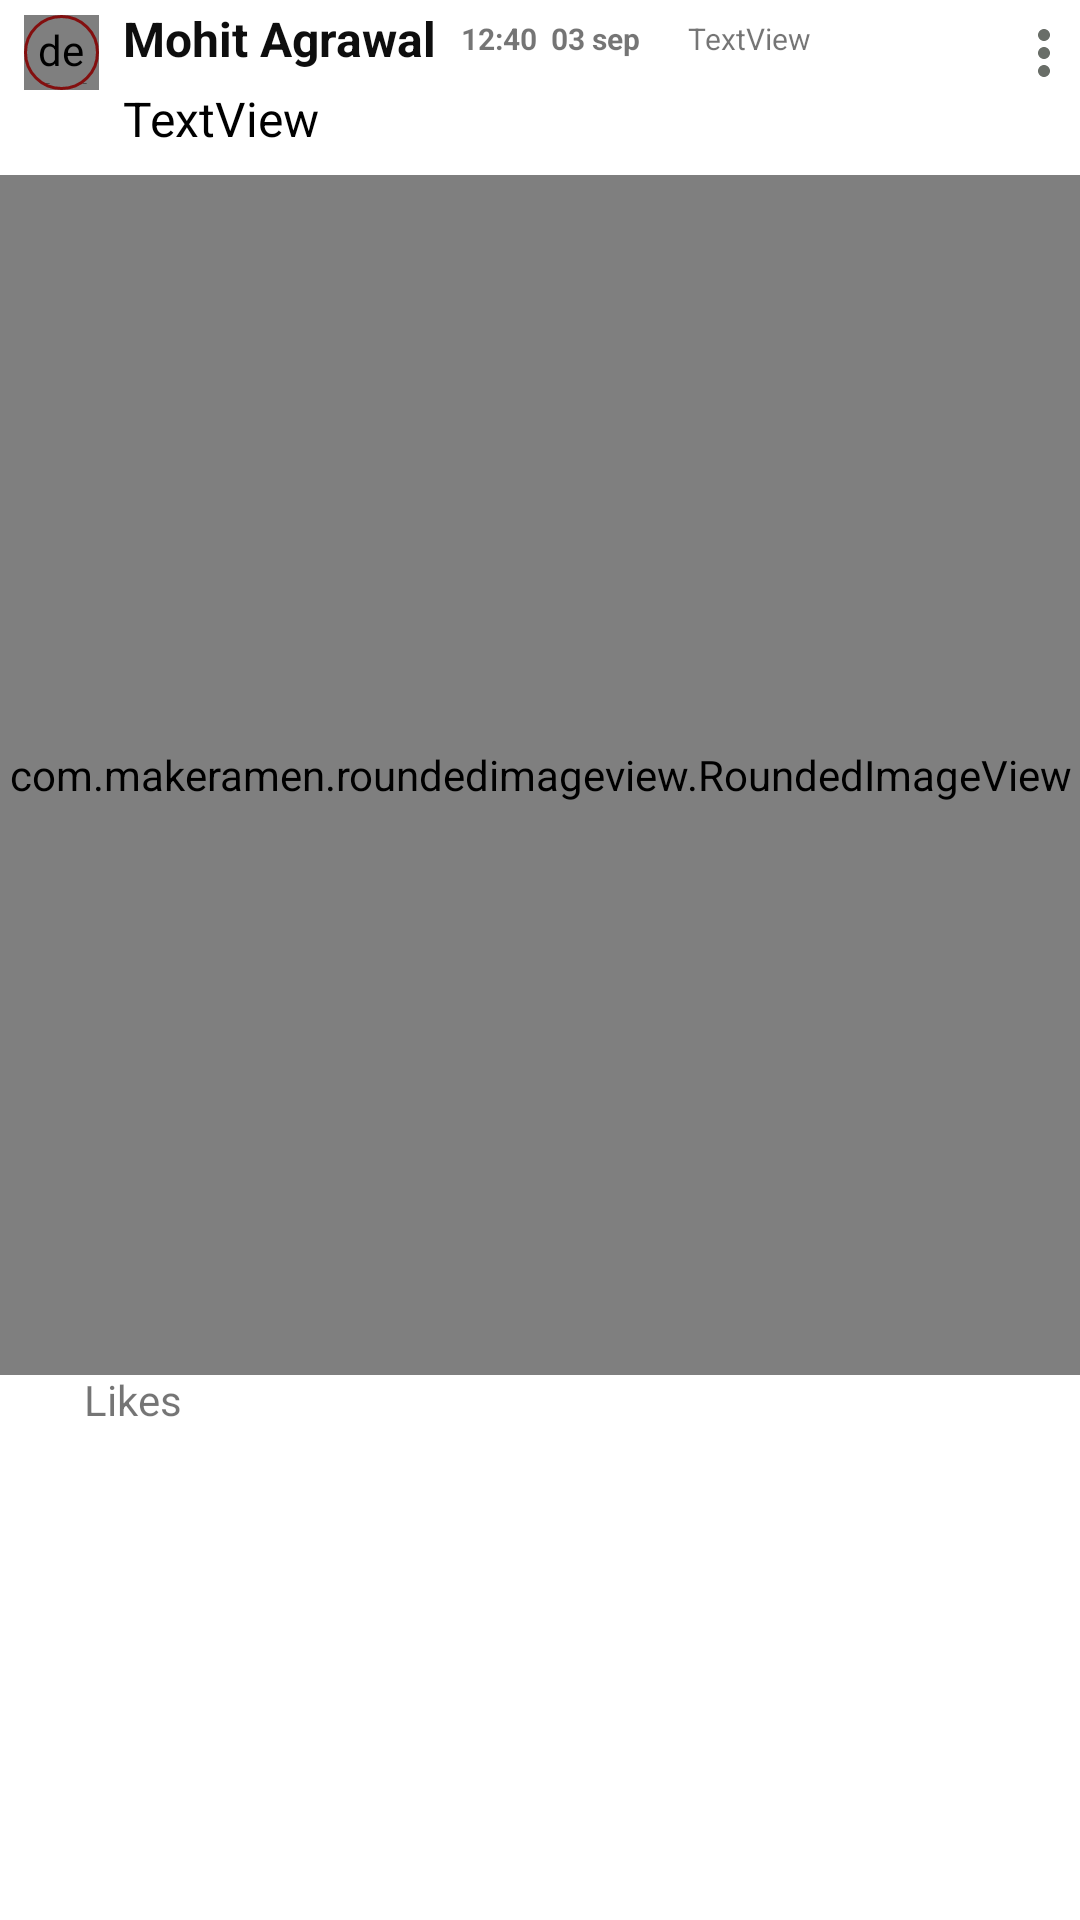

Icons on this 1080 x 1920 Android screen, each with its box as detection(x1, y1, x2, y2):
more vert: detection(1038, 29, 1050, 77)
